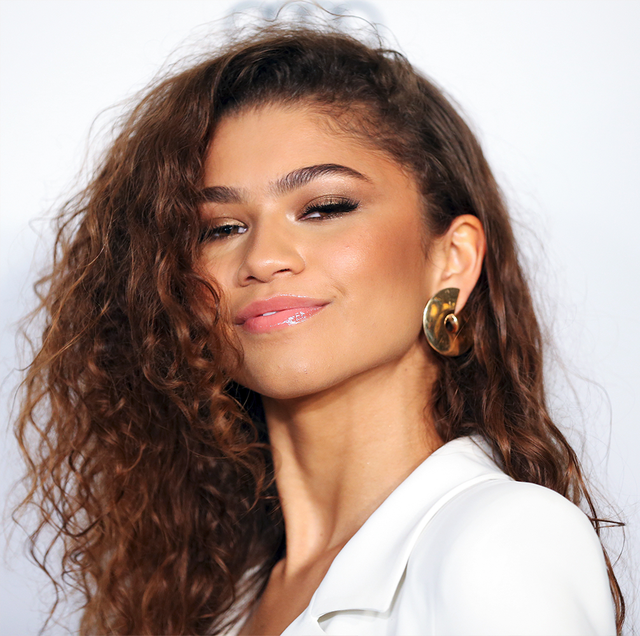bare: (184, 234, 433, 402)
